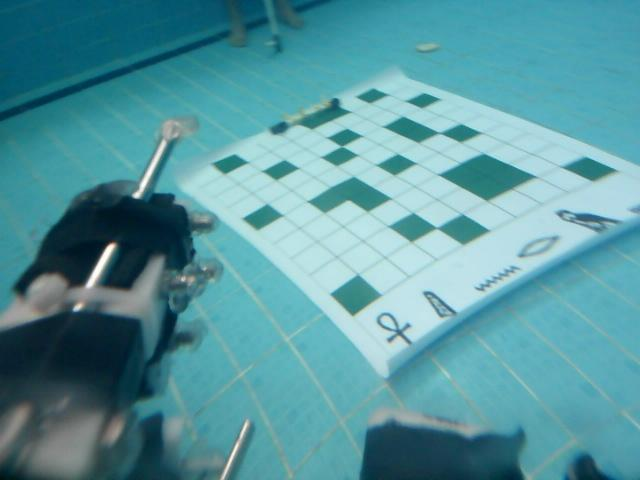Ankh: (370, 310, 422, 366)
Mouth: (513, 231, 564, 257)
Owl: (554, 208, 619, 237)
Reed: (419, 288, 464, 328)
Water: (474, 265, 521, 298)
